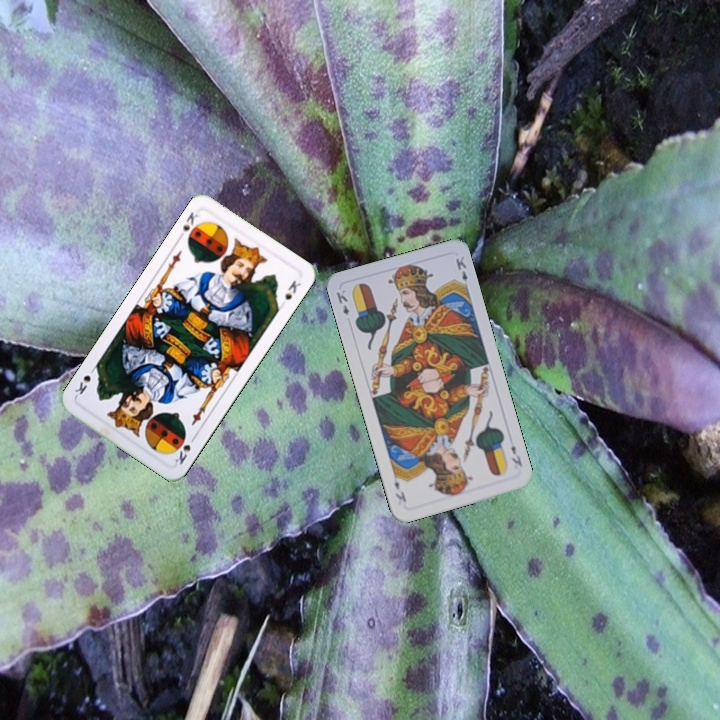EK: (332, 286, 352, 318), (507, 441, 525, 469)
SK: (171, 431, 199, 467), (174, 208, 201, 243)
